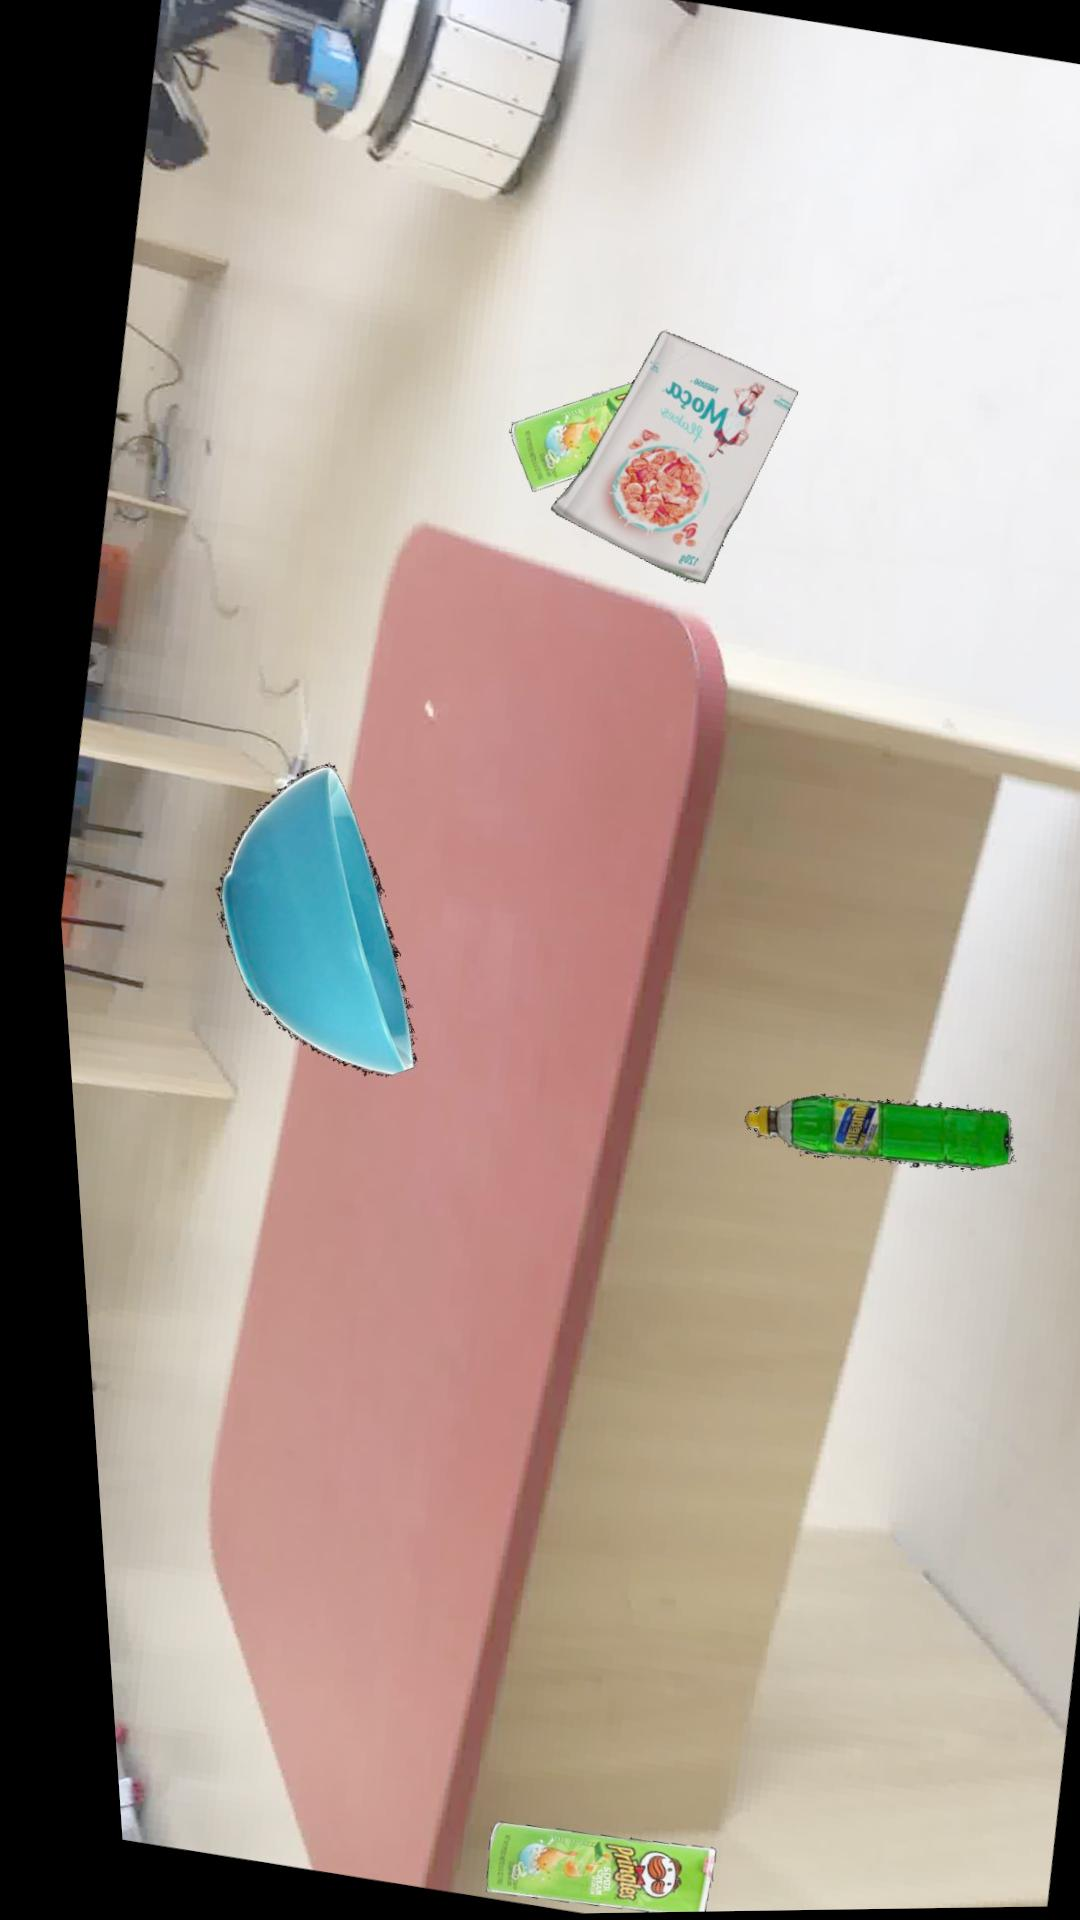bowl: (203, 762, 402, 1076)
cleaner: (729, 1093, 998, 1171)
corn flakes: (545, 331, 793, 584)
pringles: (460, 1820, 691, 1913), (504, 382, 626, 491)
